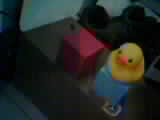duck: (104, 36, 146, 83)
